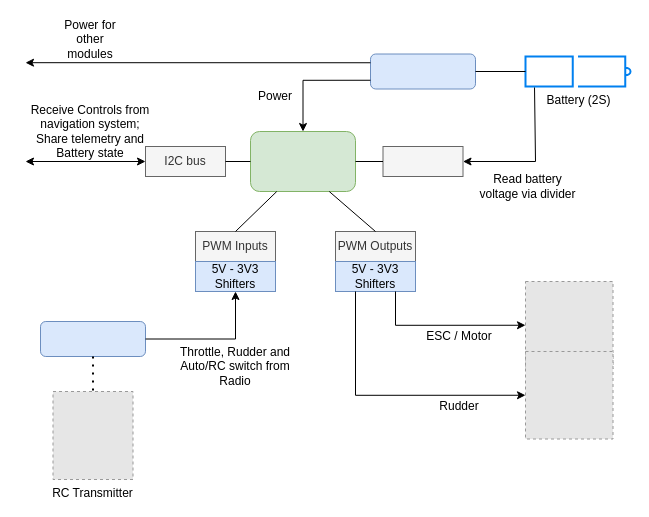
The diagram is 649 pixels wide and 517 high, and some of its shapes have lost their labels. Grey dashed boxes stand in for pictures. Each missing label, with the box of its shape:
Analog Input: (382, 146, 463, 176)
Buck Converter: (370, 53, 476, 89)
Radio: (40, 320, 146, 356)
RPi Pico MCU: (250, 130, 356, 192)
